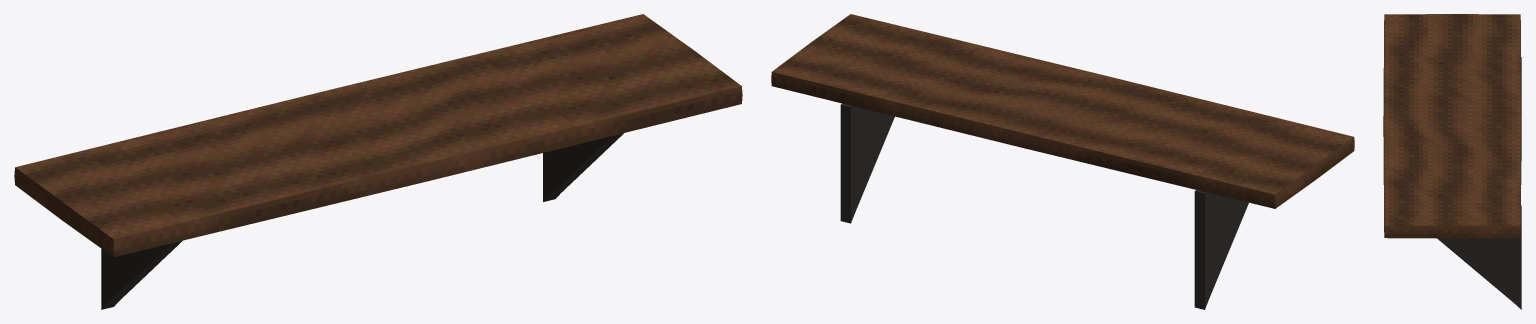
The model's file is shelf_bracket_iron_80.glb.
The picture shows the model from 3 angles, left to right: view 1: azimuth 30°, elevation 25°; view 2: azimuth 150°, elevation 25°; view 3: azimuth 270°, elevation 25°; orthographic projection. The views are drawn at different scales.
Parts seen in each view (by area): view 1: board, bracket (×2); view 2: board, bracket (×2); view 3: board, bracket.
Part boxes in pixels (x1,y1,x2,y2): board: [14, 14, 742, 257]; bracket (×2): [101, 133, 623, 309]; board: [771, 14, 1354, 208]; bracket (×2): [840, 103, 1248, 309]; board: [1383, 14, 1521, 238]; bracket: [1437, 205, 1521, 309].
Bounding box in the file's own units: 0.8 × 0.201 × 0.22.
2 materials, 1 textured.
